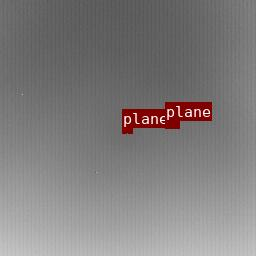plane: (165, 121, 179, 128), (122, 128, 132, 132)
